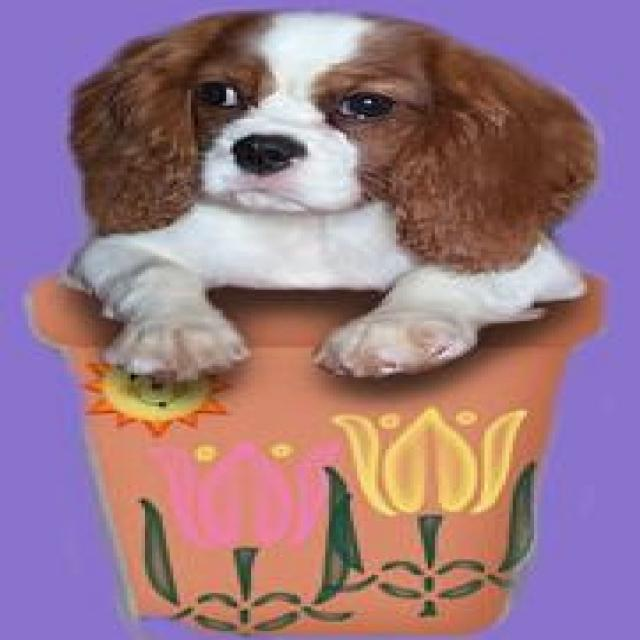blenheim_spaniel: (64, 14, 602, 386)
